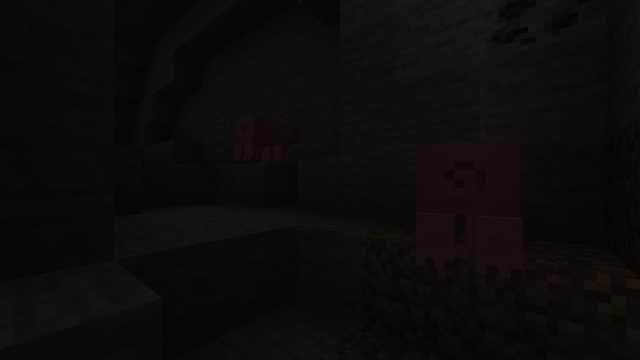cochons: (389, 135, 527, 279), (234, 113, 293, 163)
